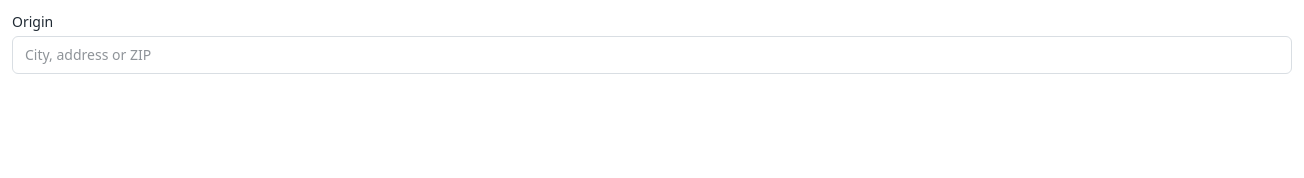
Scenario: PlaceField › chooses a place with the mouse
Type "Den" into the dropdown labelled "Origin" at (652, 55), box [12, 36, 1292, 74]
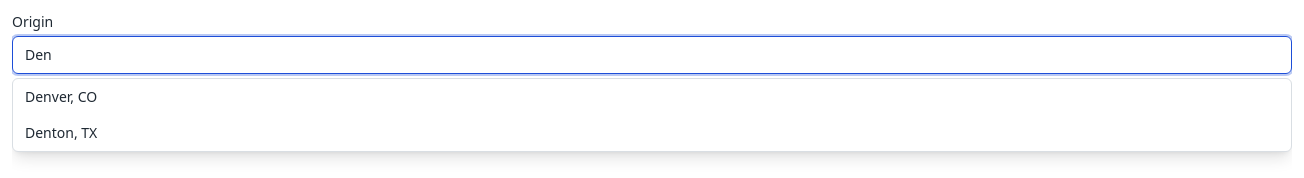
Click the option "Denton, TX" at (61, 132), box [25, 123, 97, 142]
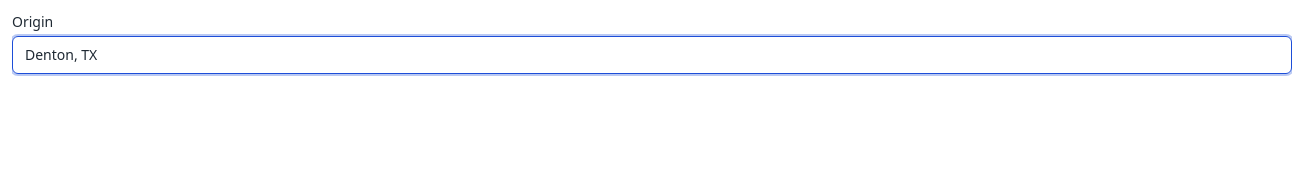
Expected: the dropdown labelled "Origin" holds "Denton, TX", [12, 36, 1292, 74]
Expected: the option is gone
